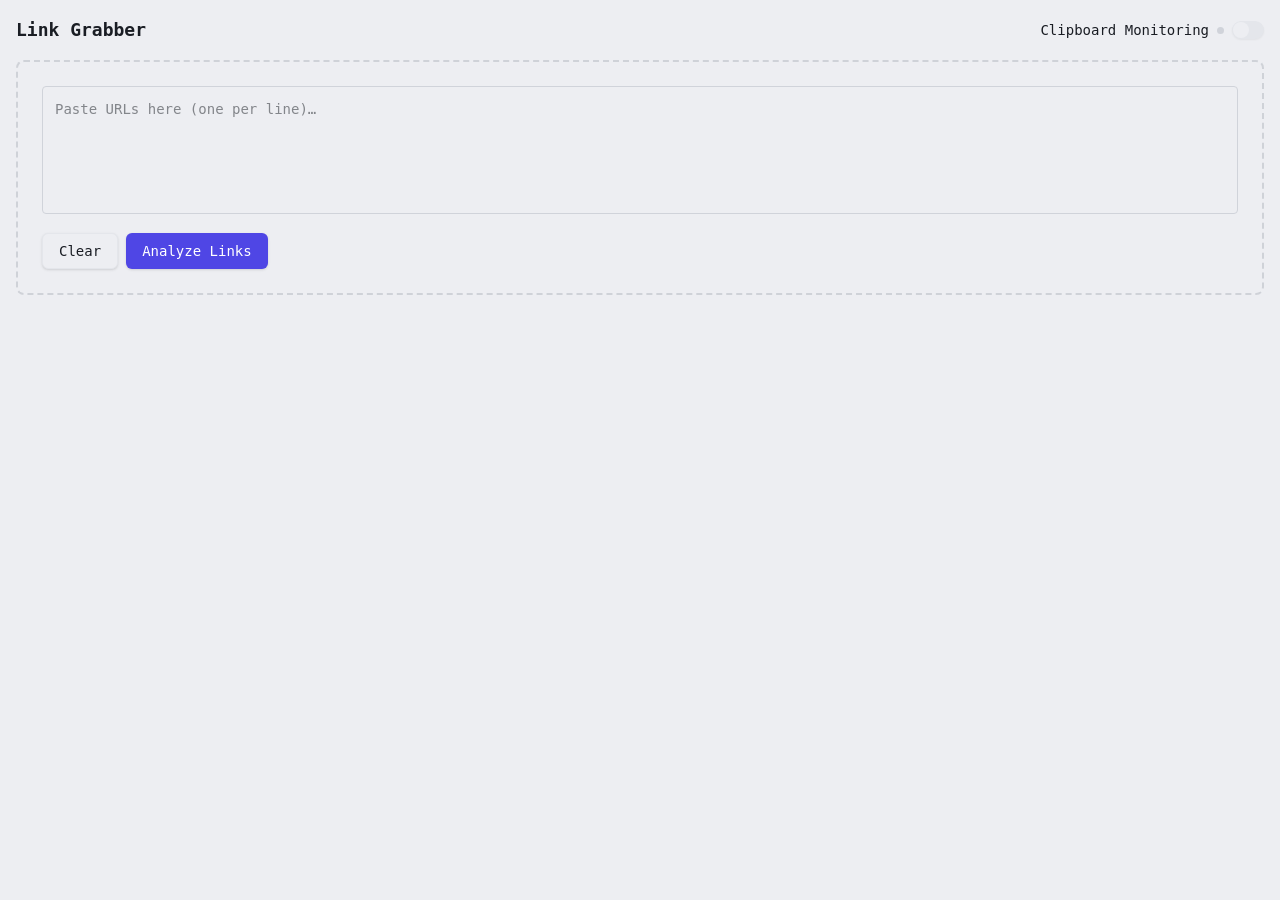
Scenario: LinkGrabberView gallery resolution › should render gallery images in gallery order without a media button
Type "https://imgur.com/a/abc123" into the text box at {"x": 640, "y": 150}, box [42,86,1238,214]
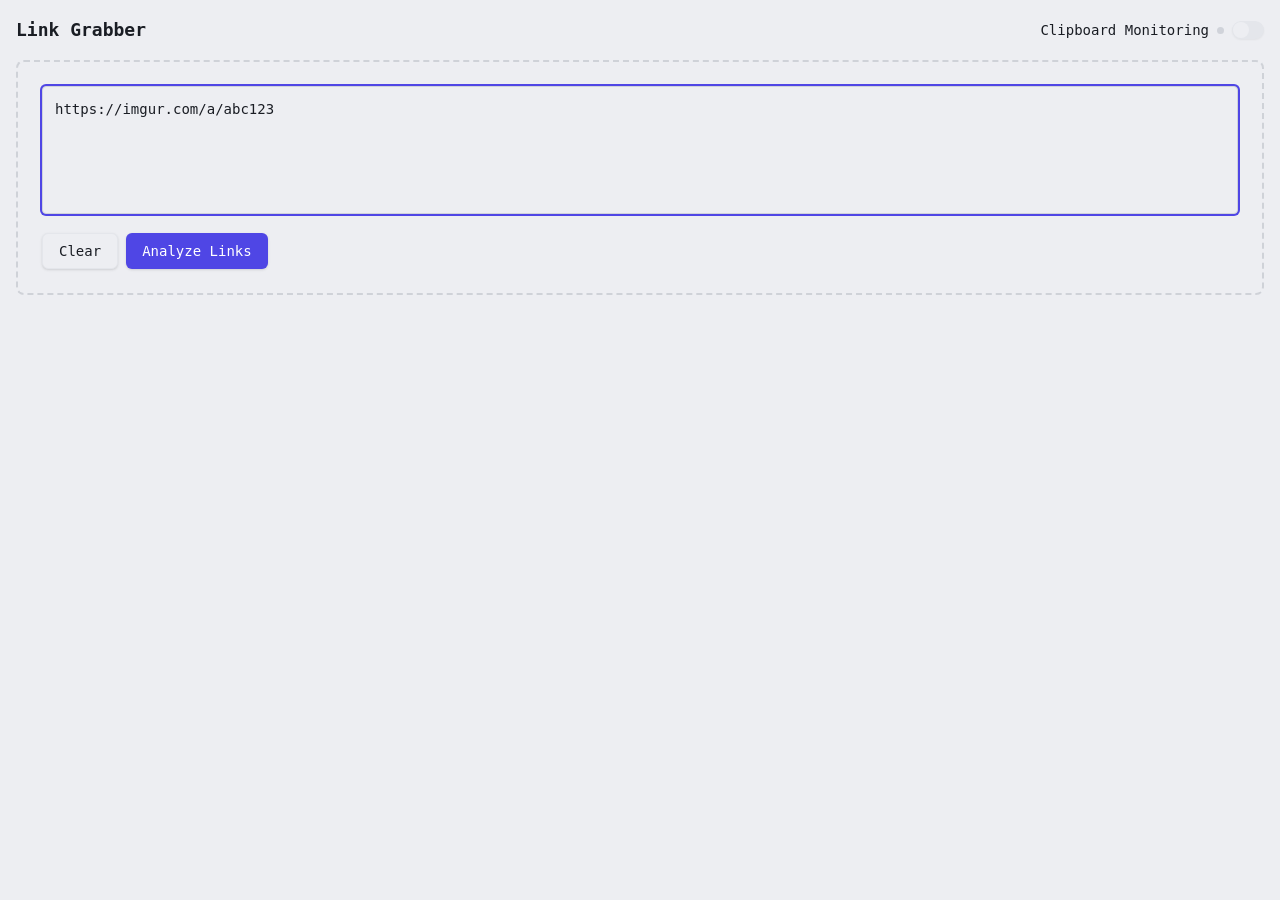
Click the button "Analyze Links" at {"x": 197, "y": 251}, box [126,233,268,269]
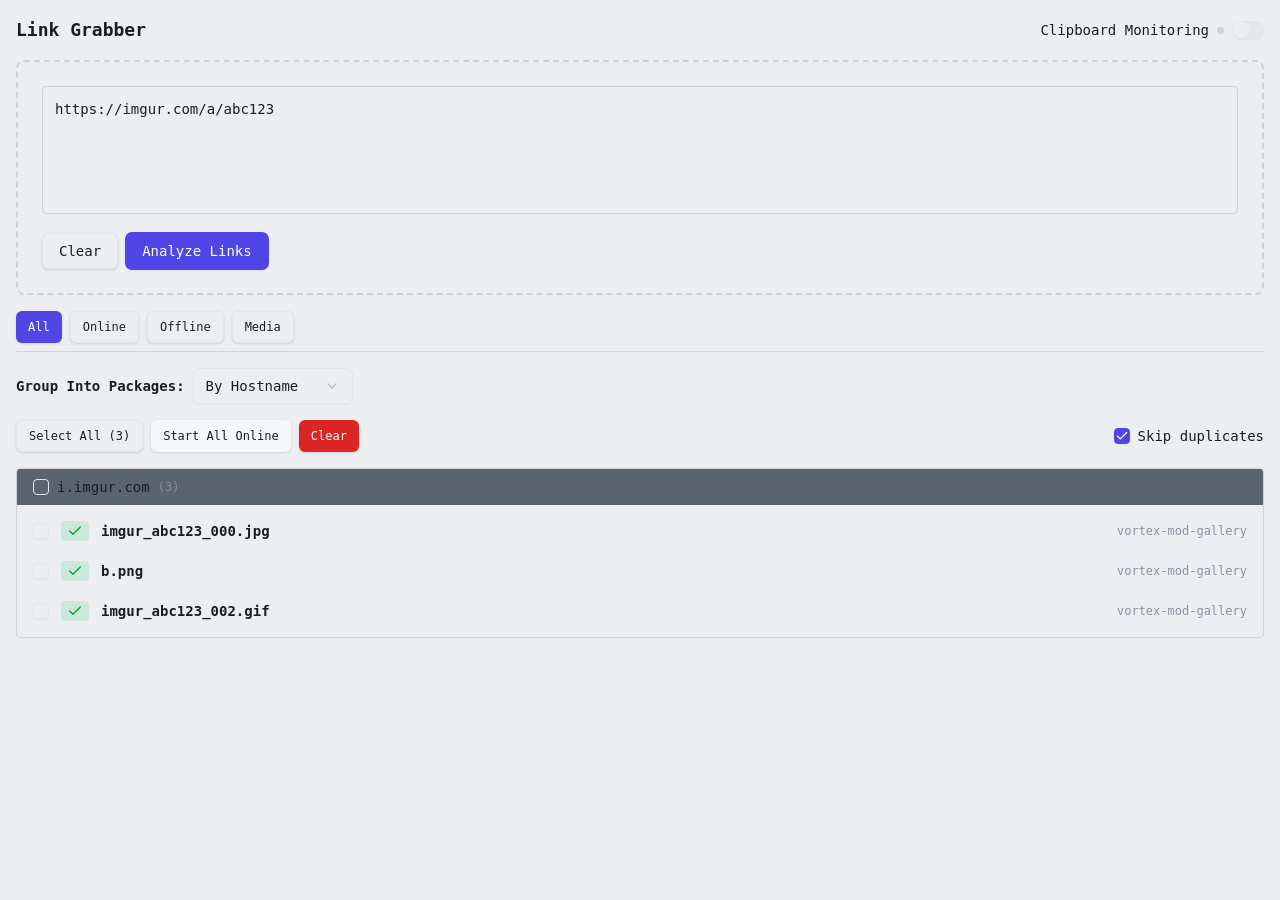
Expected: the text "imgur_abc123_002.gif" is shown, [101,603,270,619]
Expected: the text "vortex-mod-gallery" is shown 3 times, [1117,523,1247,539]; [1117,563,1247,579]; [1117,603,1247,619]
